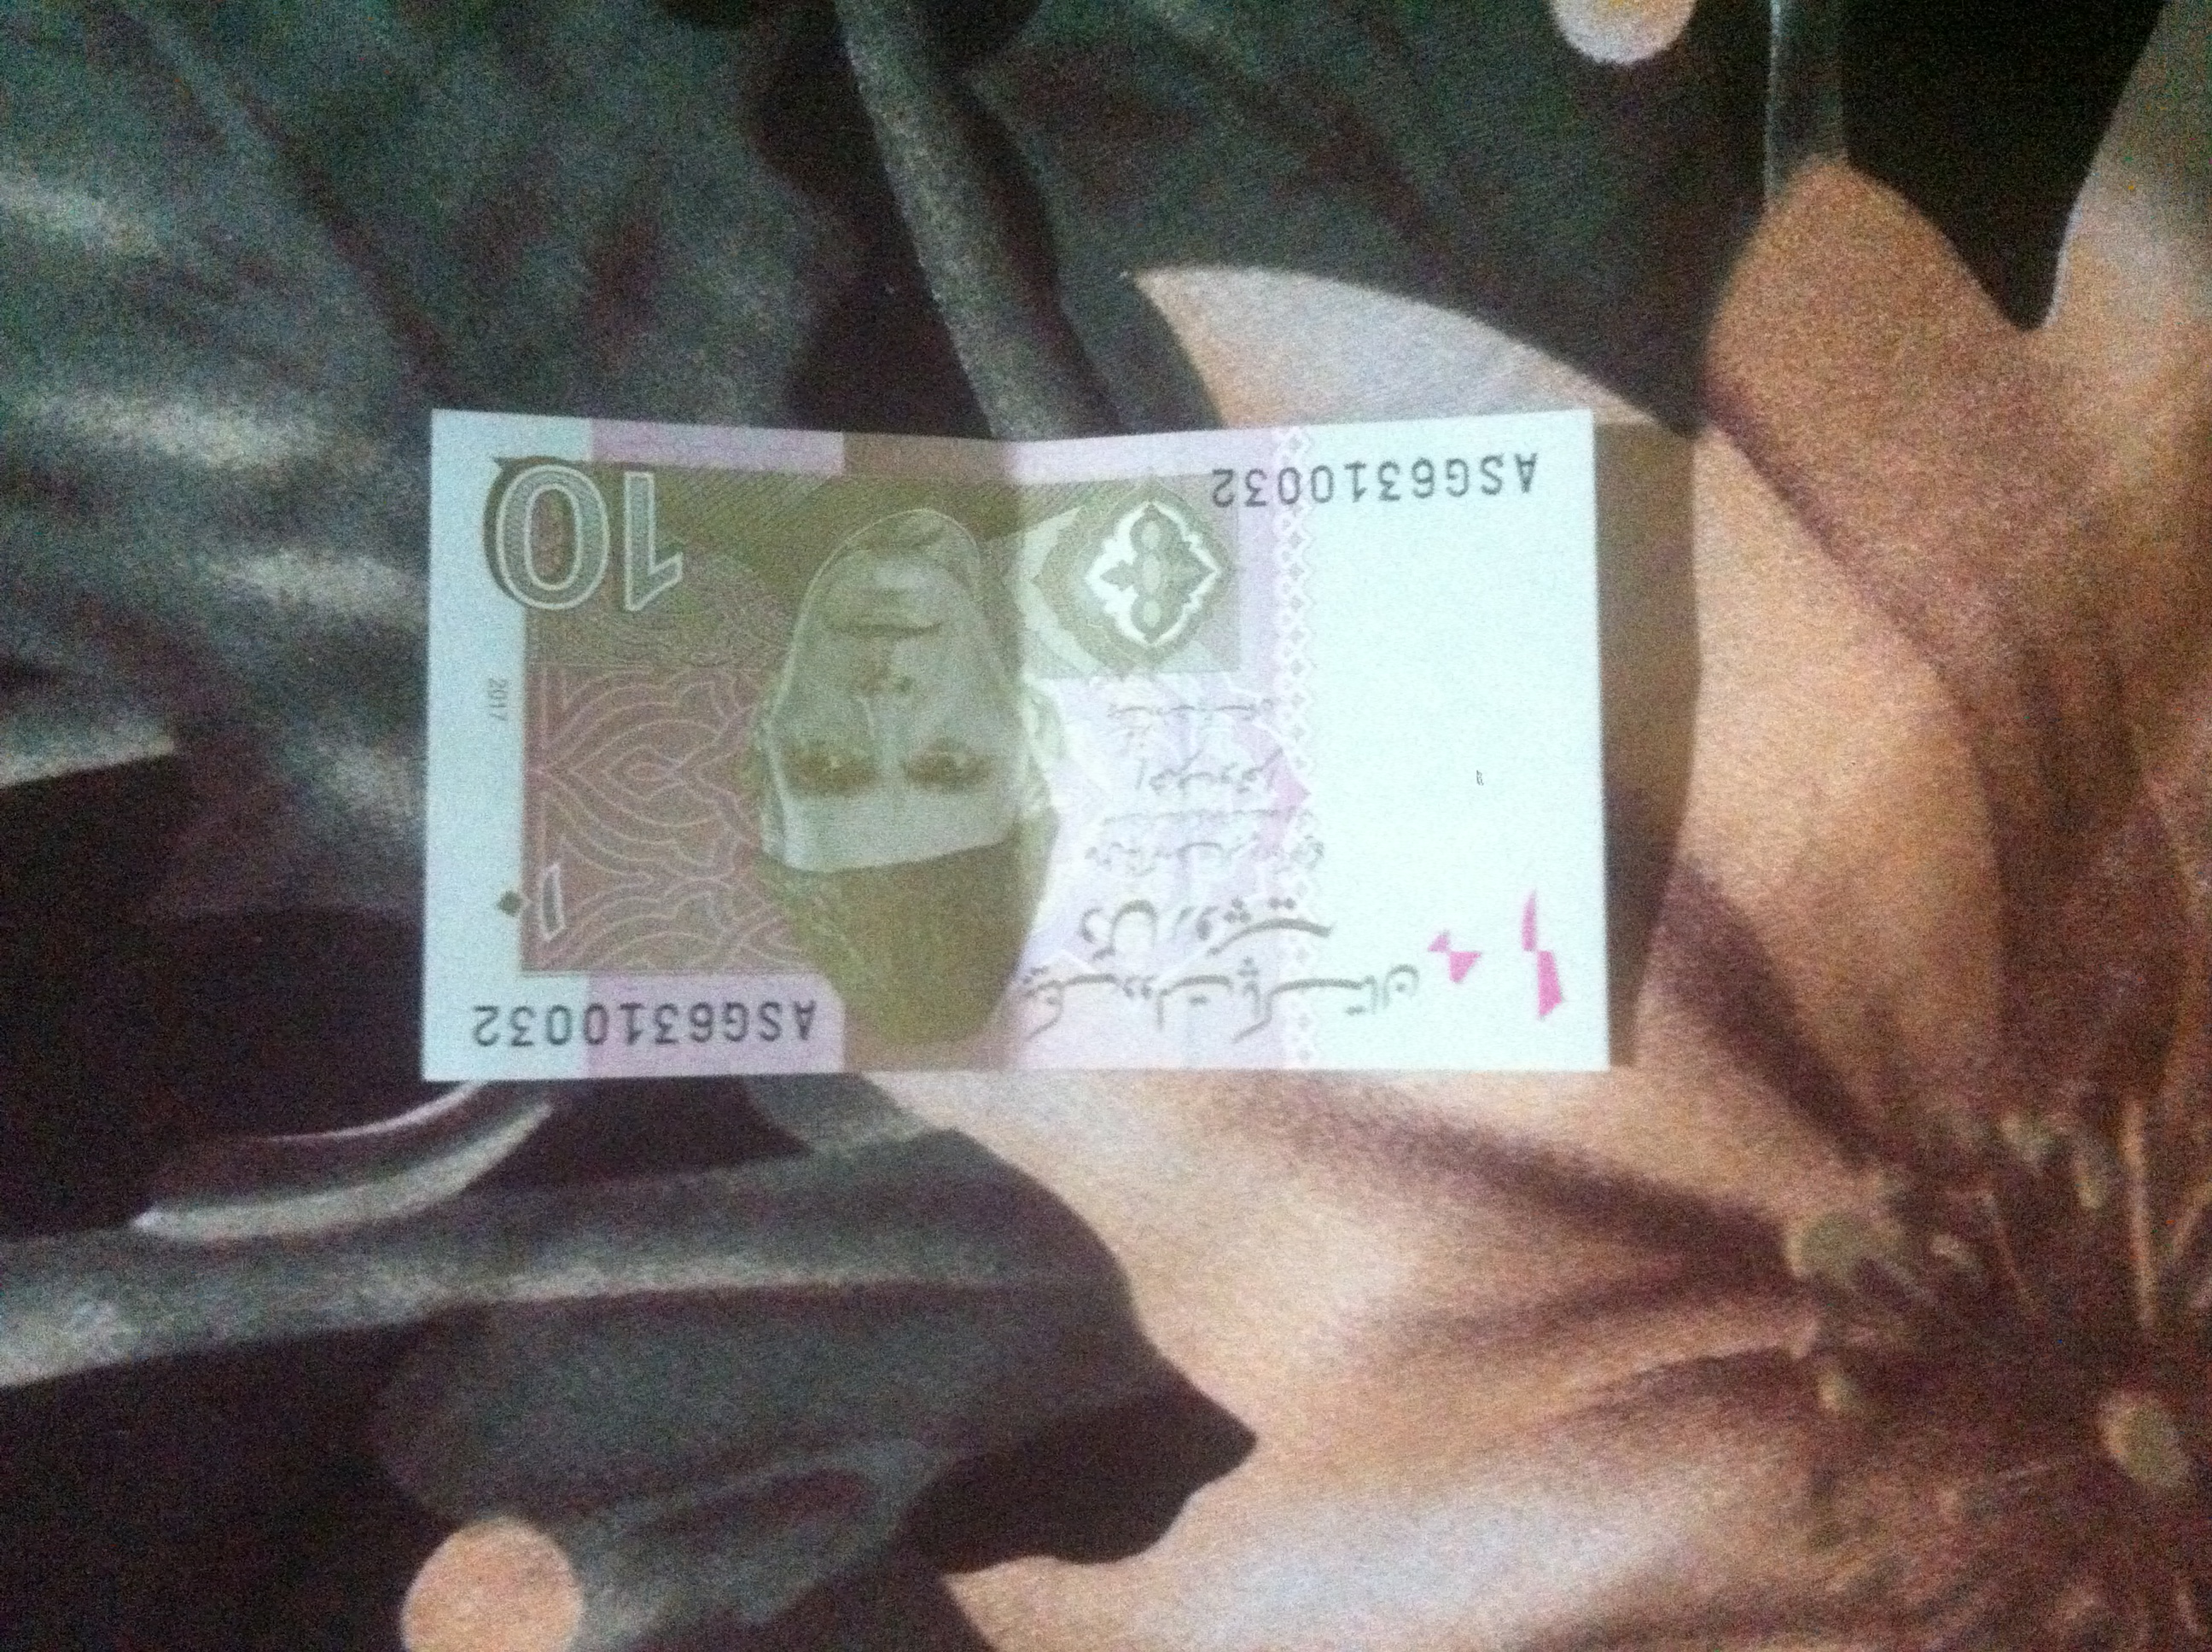10 rupee: (347, 352, 1697, 1090)
